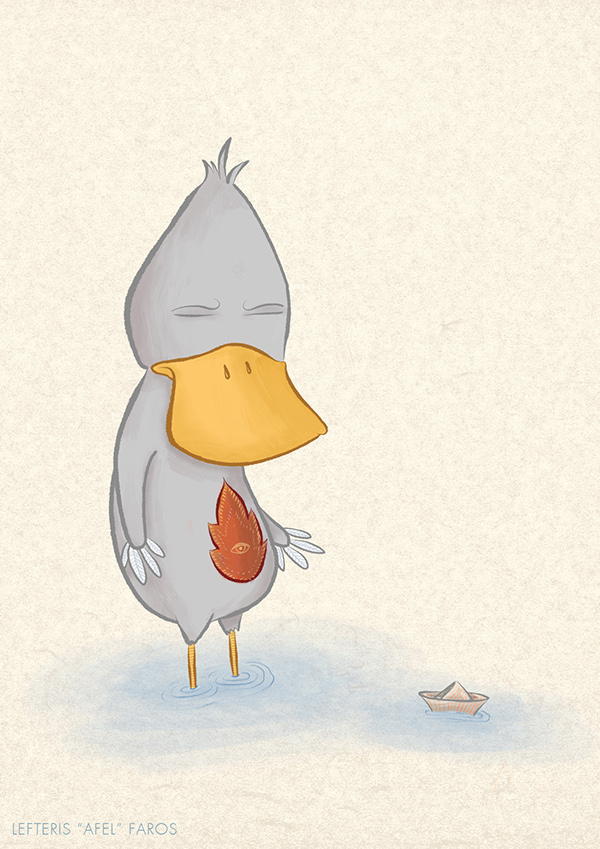bird: (98, 127, 339, 725)
